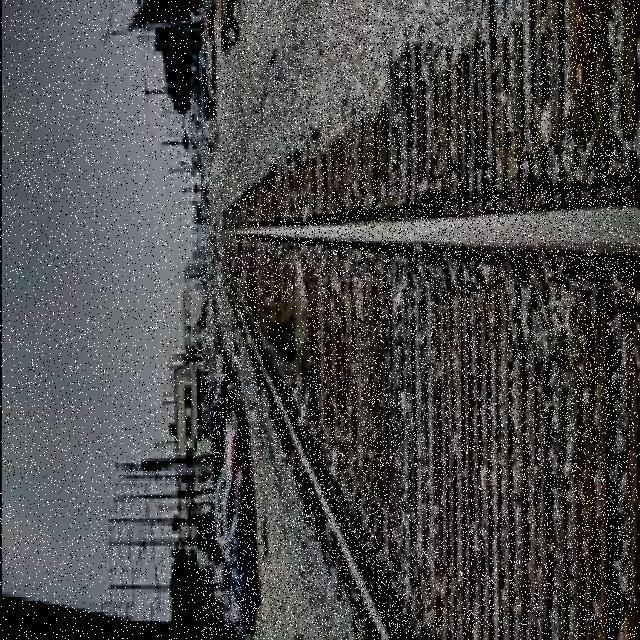rail: (202, 2, 636, 639)
